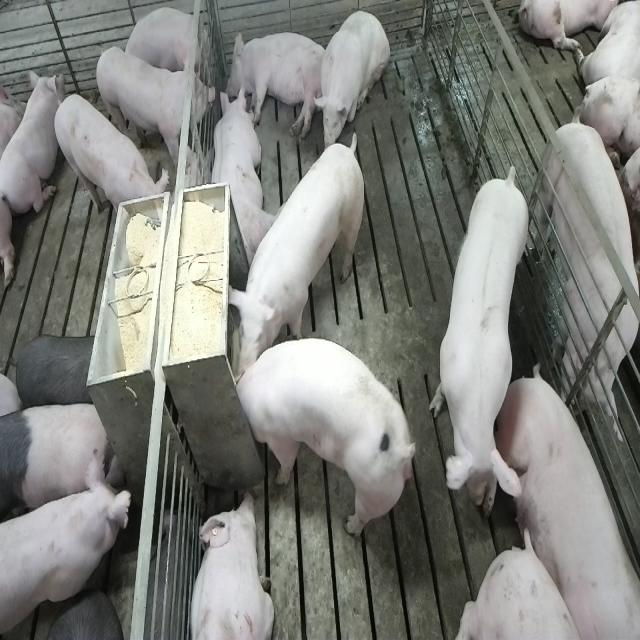Feeding: (232, 340, 418, 546), (230, 128, 368, 378)
Lateral_lying: (481, 362, 636, 636), (225, 29, 329, 140)
Sitting: (312, 8, 390, 156)
Standing: (433, 157, 533, 521), (534, 105, 640, 428), (1, 455, 134, 640), (52, 92, 167, 237), (95, 42, 216, 170), (3, 402, 118, 528)
Sternal_lying: (187, 490, 275, 640), (207, 85, 273, 265), (2, 70, 59, 222)
